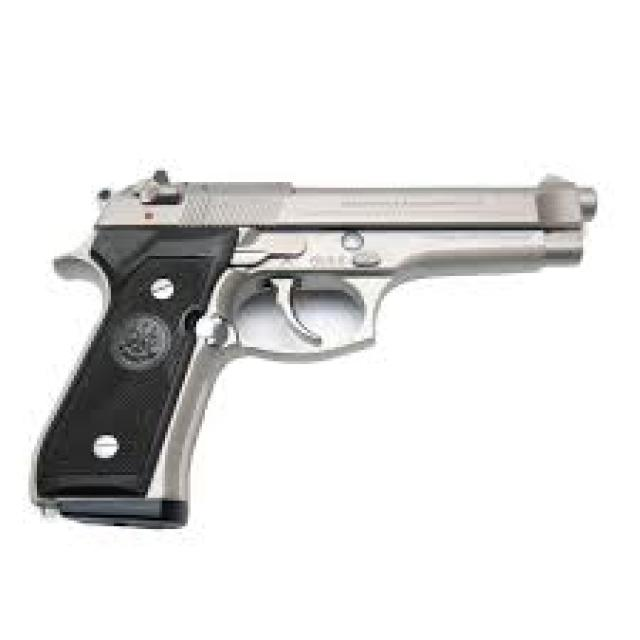pistol: (22, 158, 601, 536)
